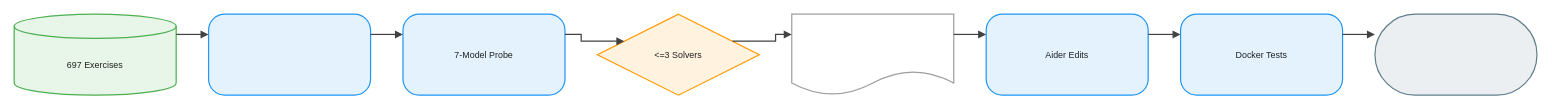
This 1552x110 diagram has some shape labels left out. The shapes that lost their labels are listed below. From the top down, each one's box as (x1, y1, x2, y2) in pixels, then its label:
(208, 13, 371, 95): 6 Languages
(791, 13, 954, 95): 225 Hard Tasks
(1374, 13, 1537, 95): Pass Rate
